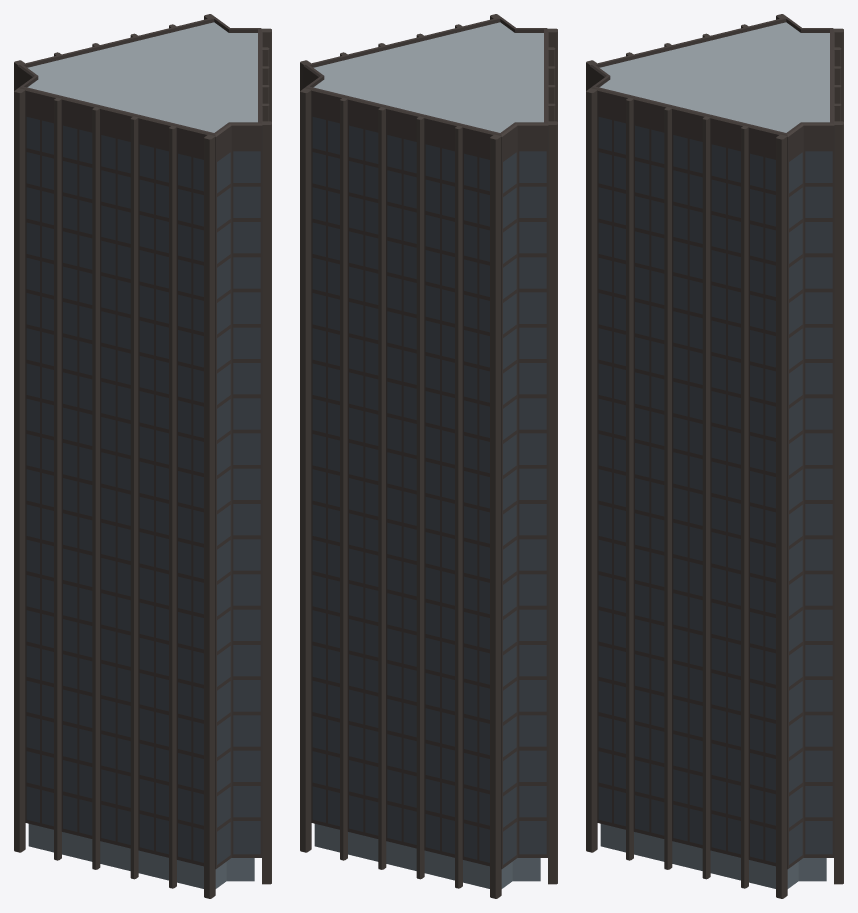
The model's file is pit-us-steel-tower.glb.
The picture shows the model from 3 angles, left to right: view 1: azimuth 30°, elevation 25°; view 2: azimuth 150°, elevation 25°; view 3: azimuth 270°, elevation 25°; orthographic projection.
Parts seen in each view (by area): view 1: U.S. Steel Tower; view 2: U.S. Steel Tower; view 3: U.S. Steel Tower.
Boxes of the visible parts, left/top/right/bottom form: U.S. Steel Tower: left=14, top=14, right=271, bottom=898; U.S. Steel Tower: left=300, top=14, right=557, bottom=898; U.S. Steel Tower: left=586, top=14, right=843, bottom=898.
Size of the model in its own units: 90.75 by 256 by 78.74.
